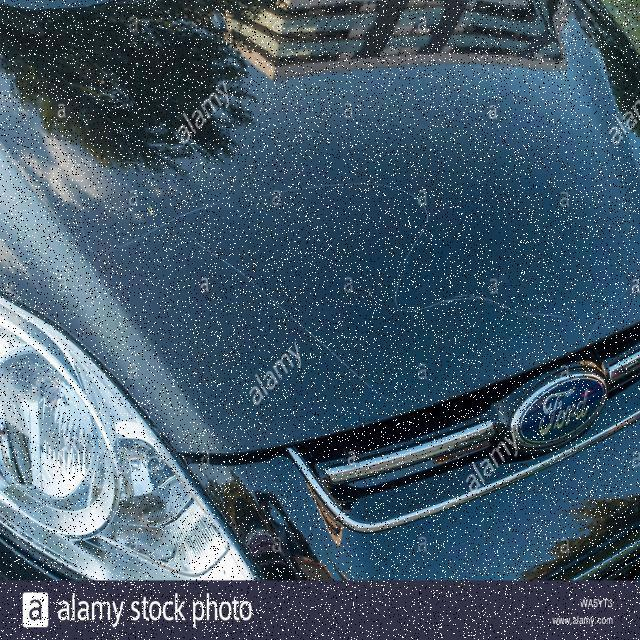headlight: (12, 49, 640, 472)
